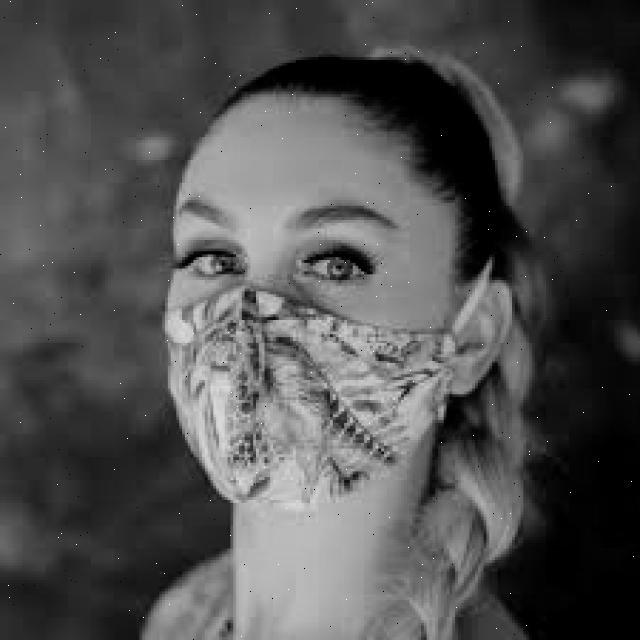fake: (157, 283, 460, 520)
real: (167, 98, 454, 515)
